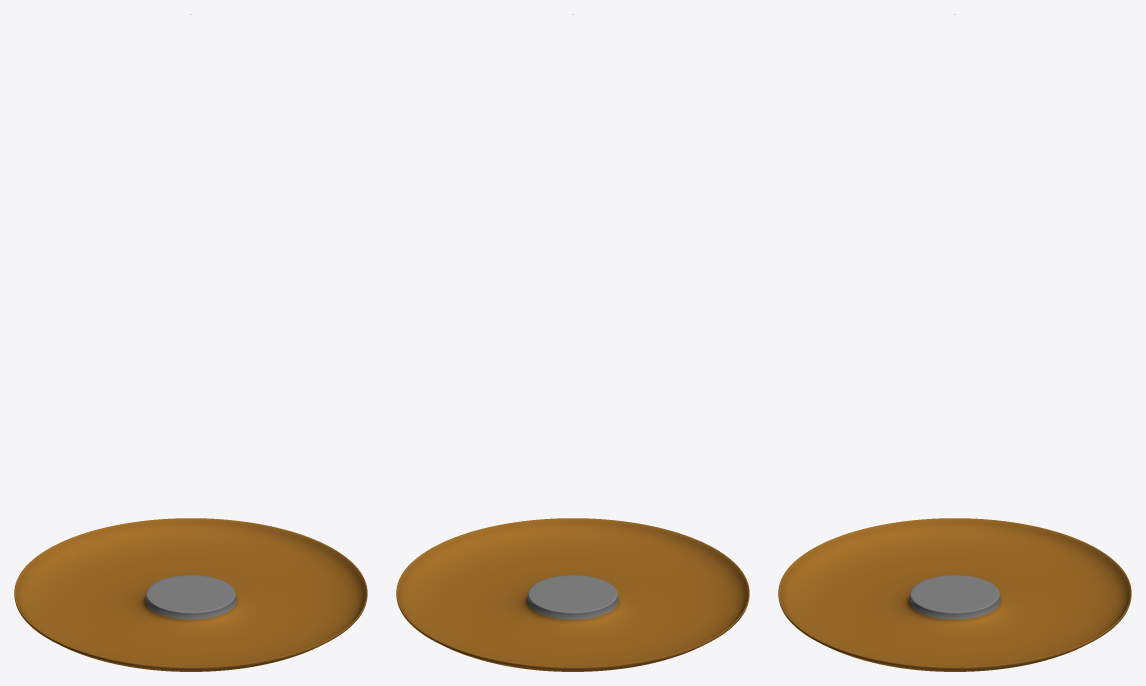
Rendered from Bullet_Scaled.glb.
The picture shows the model from 3 angles, left to right: view 1: azimuth 30°, elevation 25°; view 2: azimuth 150°, elevation 25°; view 3: azimuth 270°, elevation 25°; orthographic projection.
Parts seen in each view (by area): view 1: Bullet; view 2: Bullet; view 3: Bullet.
Boxes of the visible parts, x1,y1,x2,y2 form: Bullet: (14, 14, 367, 671); Bullet: (396, 14, 749, 671); Bullet: (778, 14, 1131, 671).
Size of the model in its own units: 91.29 by 170 by 91.29.
